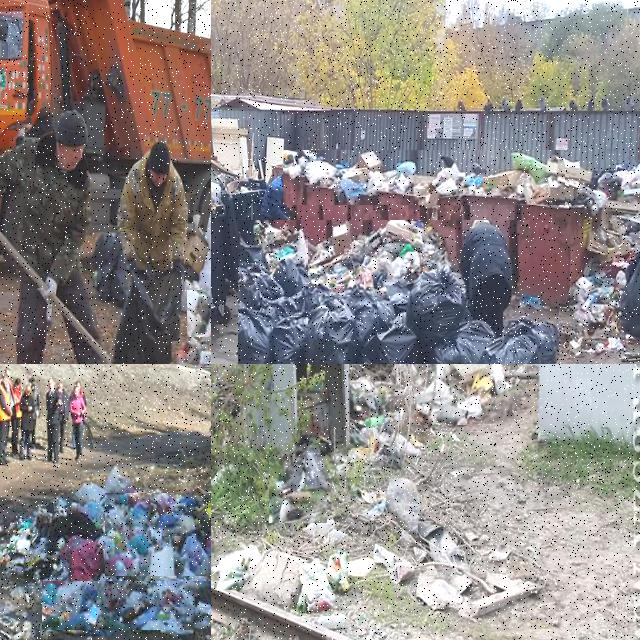lixeira: (238, 220, 561, 363), (283, 150, 566, 206), (569, 161, 639, 364), (10, 483, 106, 582), (105, 493, 210, 578), (42, 581, 210, 632), (111, 270, 183, 363), (414, 364, 508, 428), (270, 444, 329, 525), (347, 374, 401, 449), (211, 118, 267, 186), (296, 556, 350, 612), (92, 232, 132, 304), (214, 542, 263, 591), (186, 215, 210, 314), (108, 465, 135, 496), (277, 152, 313, 166), (0, 511, 13, 546)
